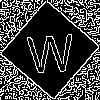W: (25, 25, 76, 74)
